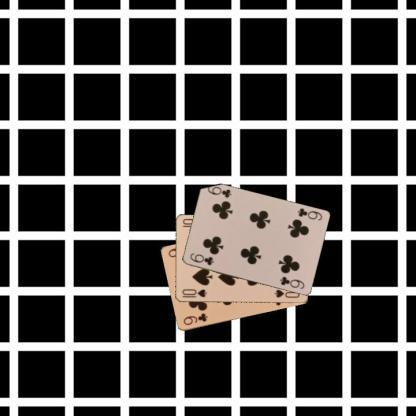10s: (180, 286, 209, 298)
6c: (294, 206, 324, 222), (187, 251, 215, 267)
9c: (180, 310, 209, 326)
